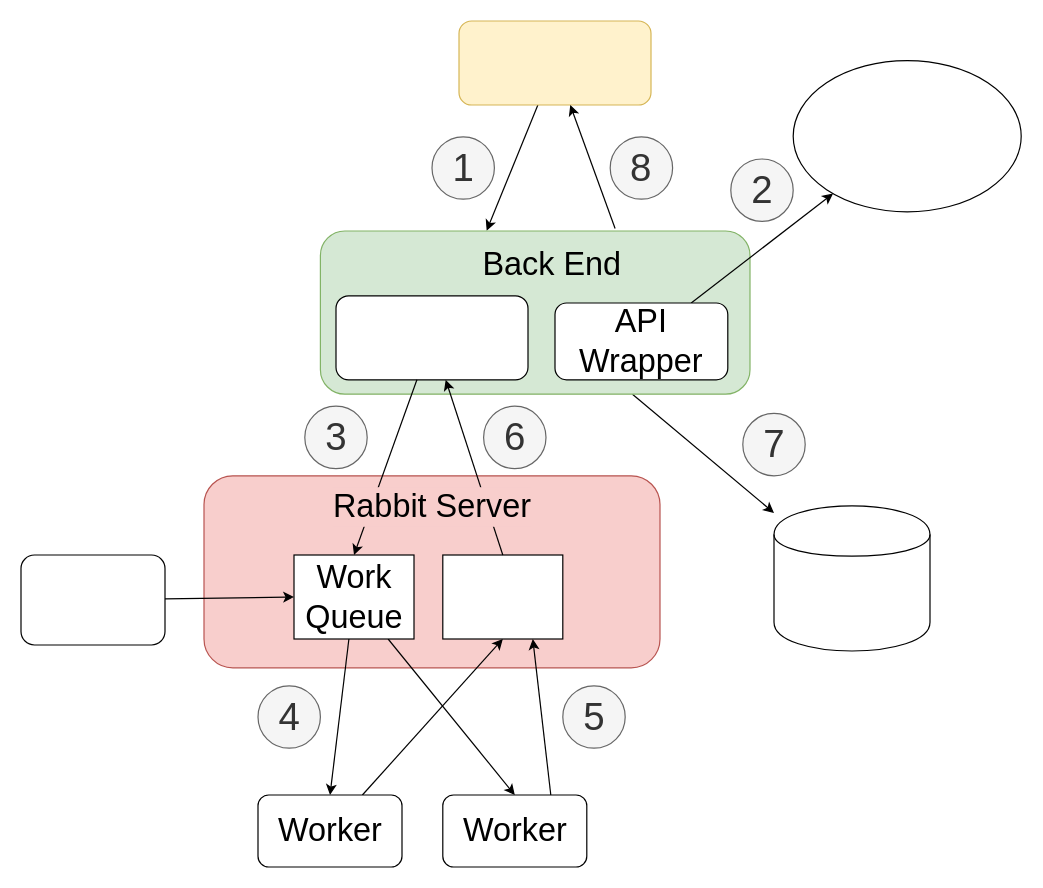
Image size: 1043x888. Some labels were removed from this diagram. Each missing label, with the centre of its shape:
Admin Workers: the point at 92,599
Cached Results: the point at 851,578
Front End: the point at 554,62
RabbitMQ Client: the point at 431,337
Result Queue: the point at 502,596
Satellite Imagery API: the point at 906,135
